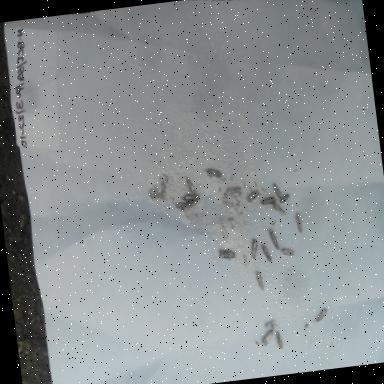pbw: (258, 326, 277, 348), (267, 226, 283, 250), (292, 210, 306, 237), (219, 192, 242, 208), (204, 165, 224, 183), (247, 236, 262, 260), (218, 244, 238, 262), (279, 244, 298, 260), (254, 268, 266, 293), (313, 306, 329, 324), (178, 198, 198, 212), (274, 328, 286, 351), (183, 173, 196, 194), (261, 243, 274, 264), (270, 180, 283, 200), (272, 201, 287, 218), (225, 184, 243, 198), (180, 191, 200, 203), (245, 186, 260, 202), (276, 192, 292, 206), (259, 196, 276, 206)
